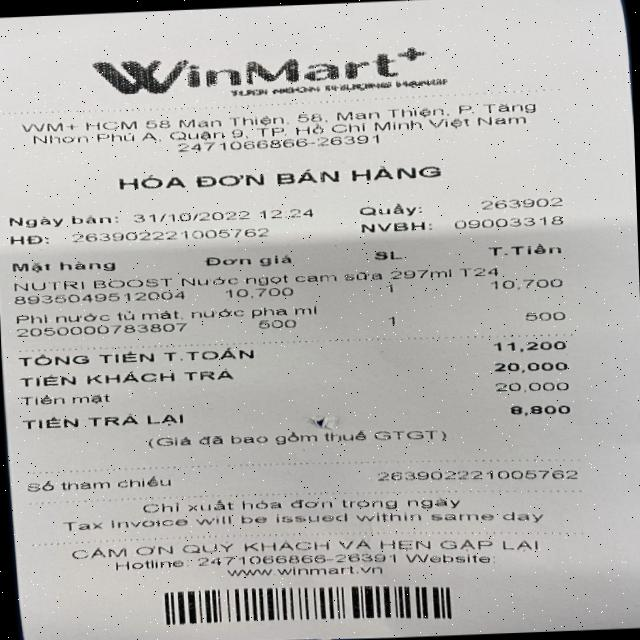Date: (114, 206, 255, 227)
Store_Name: (24, 36, 522, 112)
amount_number: (487, 336, 573, 356)
label_total: (14, 344, 261, 370)
